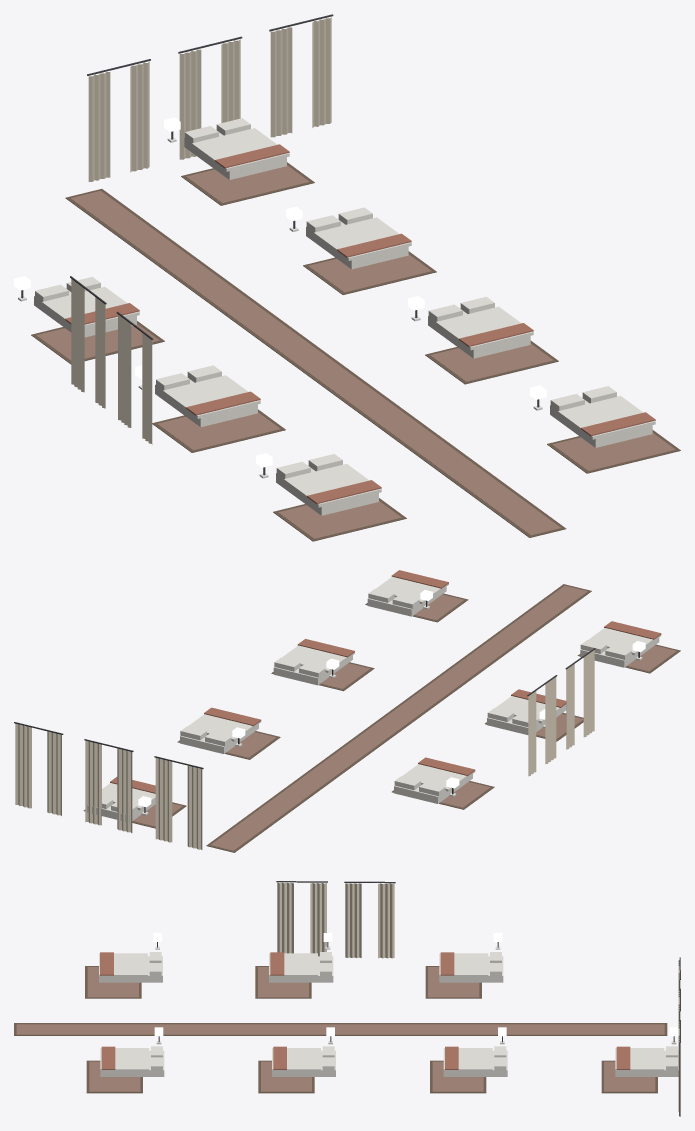
The model's file is fine-s2.glb.
The picture shows the model from 3 angles, top to bottom: view 1: azimuth 30°, elevation 25°; view 2: azimuth 150°, elevation 25°; view 3: azimuth 270°, elevation 25°; orthographic projection. The views are drawn at different scales.
Parts seen in each view (by area): view 1: soft-s2; view 2: soft-s2; view 3: soft-s2.
Boxes of the visible parts, x1,y1,x2,y2 form: soft-s2: (14,14,680,541); soft-s2: (14,570,680,852); soft-s2: (14,881,680,1116).
Size of the model in its own units: 11.45 by 2.55 by 20.09.
